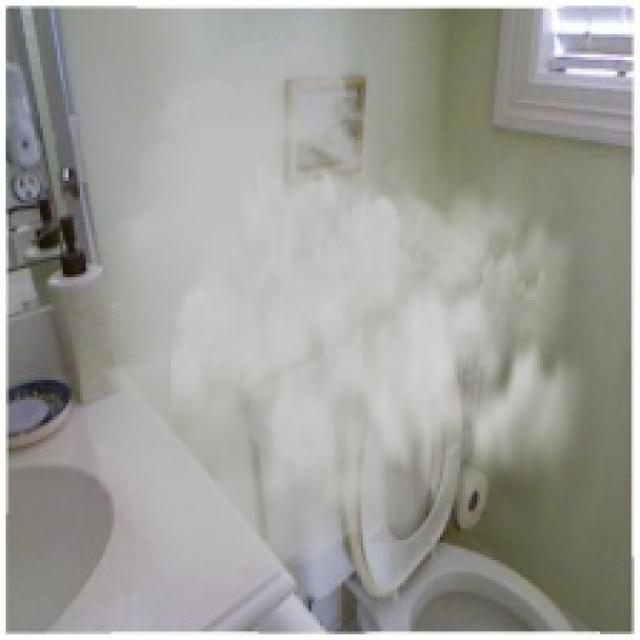smoke: (83, 34, 611, 597)
